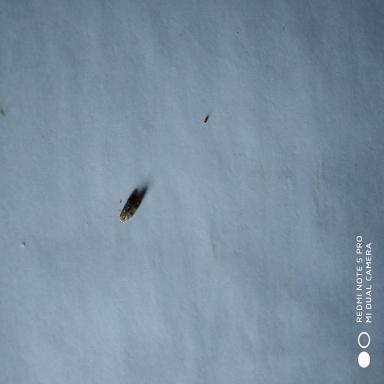pbw: (116, 193, 142, 224)
